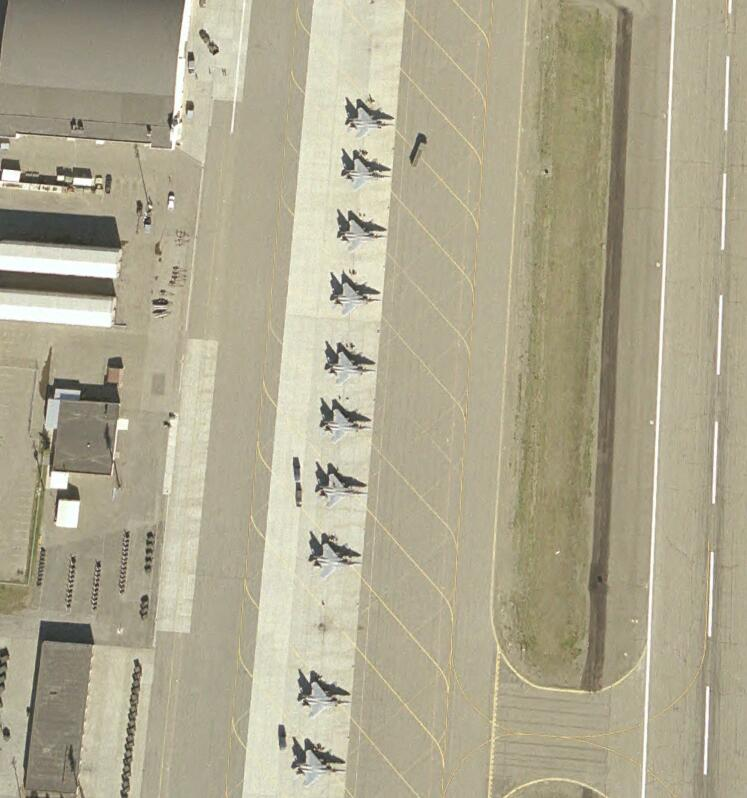A13: (298, 678, 355, 720), (294, 747, 347, 788), (330, 280, 384, 319), (315, 472, 369, 511), (324, 348, 377, 386), (311, 540, 362, 579), (321, 407, 372, 444), (336, 216, 388, 252), (346, 105, 397, 139), (343, 155, 391, 190)
